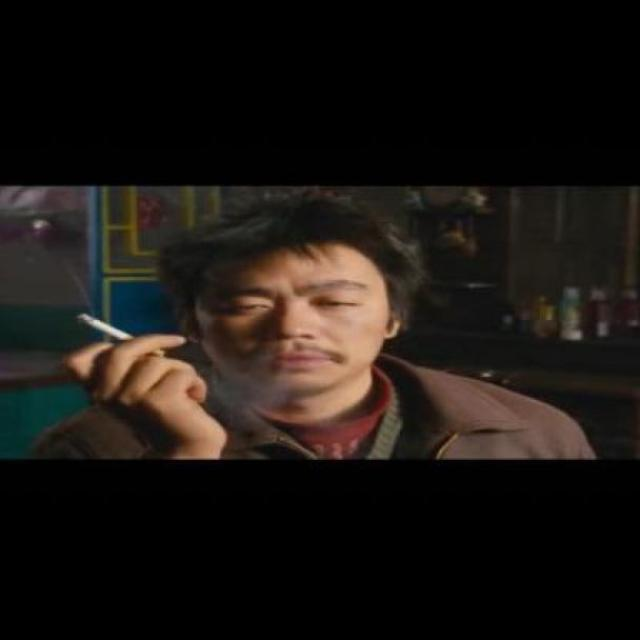rokok: (74, 306, 170, 362)
